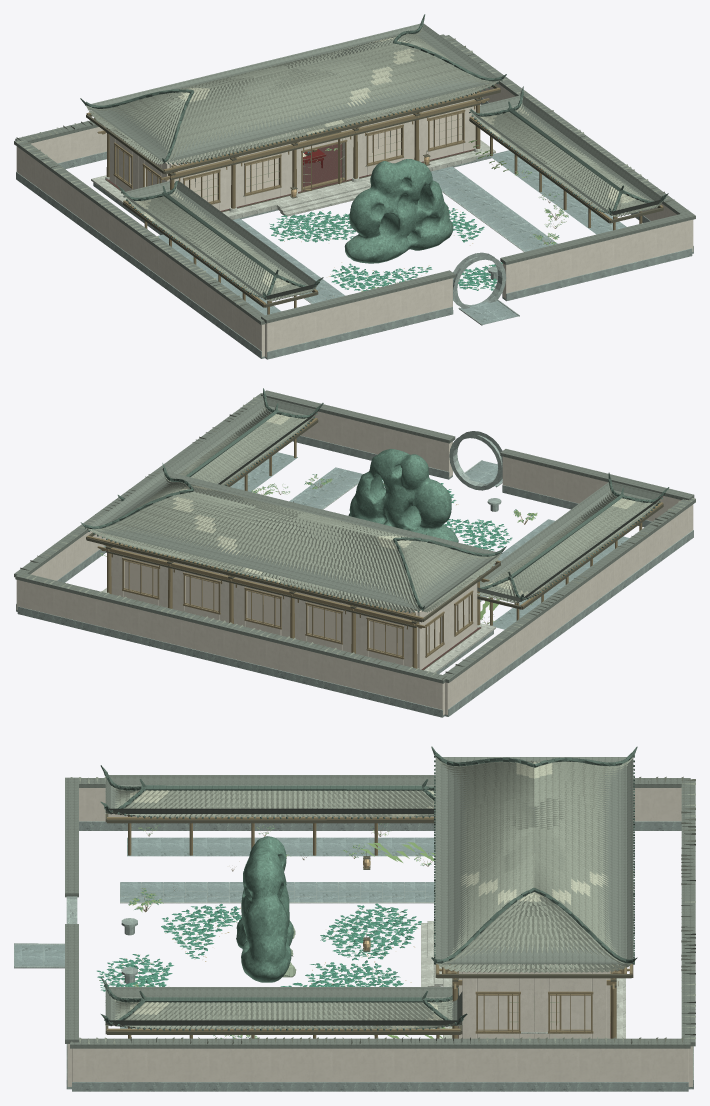
File: reference-public_models_places-low_hengwuyuan.glb
3 renders of one model, top to bottom at view 1: azimuth 30°, elevation 25°; view 2: azimuth 150°, elevation 25°; view 3: azimuth 270°, elevation 25°, orthographic. The views are drawn at different scales.
Visible parts, largest first — view 1: r15_hengwuyuan_Sunwen_r18_herbal_tile.001, r15_hengwuyuan_Sunwen_r18_herbal_roof.001, r15_hengwuyuan_Sunwen_r18_herbal_plaster.001, r15_hengwuyuan_Sunwen_r18_herbal_wood.001, Mobile_hengwuyuan_paving, Mobile_hengwuyuan_gardenstone, r15_hengwuyuan_Sunwen_r18_herbal_stone.001, r15_hengwuyuan_Sunwen_r18_herbal_plaster.003, r15_hengwuyuan_Sunwen_r18_herbal_darkwood.001, r15_hengwuyuan_Sunwen_r18_herbal_tiledark.001, Mobile_hengwuyuan_botanical_bamboo, r15_hengwuyuan_Sunwen_r18_herbal_cutstone.001 (+5 smaller); view 2: r15_hengwuyuan_Sunwen_r18_herbal_tile.001, r15_hengwuyuan_Sunwen_r18_herbal_roof.001, r15_hengwuyuan_Sunwen_r18_herbal_plaster.001, r15_hengwuyuan_Sunwen_r18_herbal_stone.001, r15_hengwuyuan_Sunwen_r18_herbal_wood.001, r15_hengwuyuan_Sunwen_r18_herbal_plaster.003, Mobile_hengwuyuan_gardenstone, r15_hengwuyuan_Sunwen_r18_herbal_screen.002, Mobile_hengwuyuan_paving, r15_hengwuyuan_Sunwen_r18_herbal_tiledark.001, r15_hengwuyuan_Sunwen_r18_herbal_darkwood.001, r15_hengwuyuan_Sunwen_r18_herbal_tilelight.001 (+3 smaller); view 3: r15_hengwuyuan_Sunwen_r18_herbal_tile.001, r15_hengwuyuan_Sunwen_r18_herbal_roof.001, r15_hengwuyuan_Sunwen_r18_herbal_plaster.001, Mobile_hengwuyuan_paving, r15_hengwuyuan_Sunwen_r18_herbal_stone.001, r15_hengwuyuan_Sunwen_r18_herbal_tiledark.001, Mobile_hengwuyuan_botanical_bamboo, Mobile_hengwuyuan_gardenstone, r15_hengwuyuan_Sunwen_r18_herbal_plaster.003, r15_hengwuyuan_Sunwen_r18_herbal_wood.001, r15_hengwuyuan_Sunwen_r18_herbal_darkwood.001, r15_hengwuyuan_Sunwen_r18_herbal_tilelight.001 (+5 smaller).
Part boxes in pixels (left/top/right/bottom): r15_hengwuyuan_Sunwen_r18_herbal_tile.001: left=16, top=26, right=682, bottom=320; r15_hengwuyuan_Sunwen_r18_herbal_roof.001: left=14, top=23, right=695, bottom=324; r15_hengwuyuan_Sunwen_r18_herbal_plaster.001: left=16, top=83, right=693, bottom=357; r15_hengwuyuan_Sunwen_r18_herbal_wood.001: left=86, top=87, right=663, bottom=314; Mobile_hengwuyuan_paving: left=158, top=150, right=626, bottom=324; Mobile_hengwuyuan_gardenstone: left=344, top=159, right=453, bottom=263; r15_hengwuyuan_Sunwen_r18_herbal_stone.001: left=16, top=97, right=693, bottom=359; r15_hengwuyuan_Sunwen_r18_herbal_plaster.003: left=109, top=88, right=475, bottom=210; r15_hengwuyuan_Sunwen_r18_herbal_darkwood.001: left=86, top=84, right=663, bottom=307; r15_hengwuyuan_Sunwen_r18_herbal_tiledark.001: left=80, top=14, right=668, bottom=299; Mobile_hengwuyuan_botanical_bamboo: left=269, top=207, right=502, bottom=290; r15_hengwuyuan_Sunwen_r18_herbal_cutstone.001: left=91, top=140, right=495, bottom=219; r15_hengwuyuan_Sunwen_r18_herbal_tile.001: left=20, top=393, right=695, bottom=679; r15_hengwuyuan_Sunwen_r18_herbal_roof.001: left=14, top=390, right=695, bottom=683; r15_hengwuyuan_Sunwen_r18_herbal_plaster.001: left=16, top=411, right=693, bottom=715; r15_hengwuyuan_Sunwen_r18_herbal_stone.001: left=16, top=431, right=693, bottom=717; r15_hengwuyuan_Sunwen_r18_herbal_wood.001: left=86, top=418, right=663, bottom=668; r15_hengwuyuan_Sunwen_r18_herbal_plaster.003: left=111, top=536, right=477, bottom=669; Mobile_hengwuyuan_gardenstone: left=348, top=449, right=458, bottom=542; r15_hengwuyuan_Sunwen_r18_herbal_screen.002: left=125, top=561, right=456, bottom=655; Mobile_hengwuyuan_paving: left=230, top=452, right=629, bottom=629; r15_hengwuyuan_Sunwen_r18_herbal_tiledark.001: left=80, top=388, right=669, bottom=612; r15_hengwuyuan_Sunwen_r18_herbal_darkwood.001: left=86, top=418, right=663, bottom=670; r15_hengwuyuan_Sunwen_r18_herbal_tilelight.001: left=173, top=412, right=635, bottom=596; r15_hengwuyuan_Sunwen_r18_herbal_tile.001: left=70, top=757, right=695, bottom=1044; r15_hengwuyuan_Sunwen_r18_herbal_roof.001: left=65, top=757, right=695, bottom=1048; r15_hengwuyuan_Sunwen_r18_herbal_plaster.001: left=67, top=788, right=693, bottom=1086; Mobile_hengwuyuan_paving: left=14, top=837, right=441, bottom=1028; r15_hengwuyuan_Sunwen_r18_herbal_stone.001: left=14, top=821, right=693, bottom=1091; r15_hengwuyuan_Sunwen_r18_herbal_tiledark.001: left=100, top=746, right=637, bottom=1030; Mobile_hengwuyuan_botanical_bamboo: left=97, top=903, right=421, bottom=991; Mobile_hengwuyuan_gardenstone: left=236, top=836, right=293, bottom=982; r15_hengwuyuan_Sunwen_r18_herbal_plaster.003: left=458, top=965, right=610, bottom=1038; r15_hengwuyuan_Sunwen_r18_herbal_wood.001: left=107, top=814, right=632, bottom=1038; r15_hengwuyuan_Sunwen_r18_herbal_darkwood.001: left=105, top=813, right=633, bottom=1034; r15_hengwuyuan_Sunwen_r18_herbal_tilelight.001: left=130, top=762, right=608, bottom=1029.
Bounding box in the file's own units: 32.76 × 7.89 × 35.38.
Materials: 31 (24 with a texture image).
